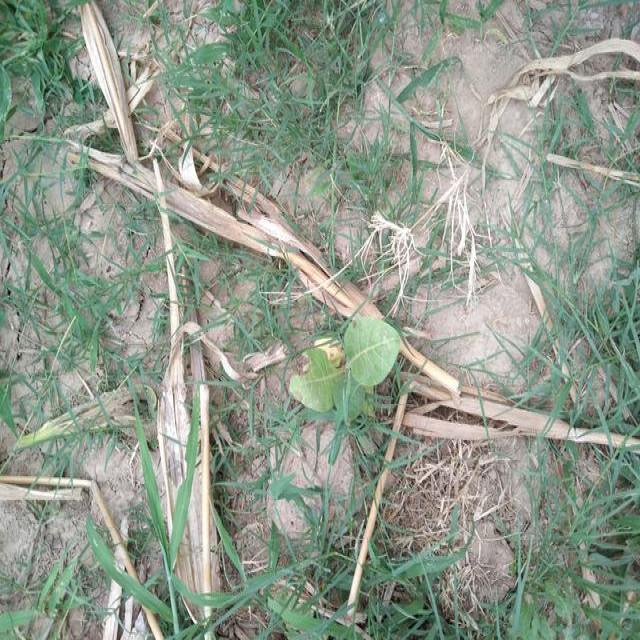crop: (278, 302, 410, 423)
